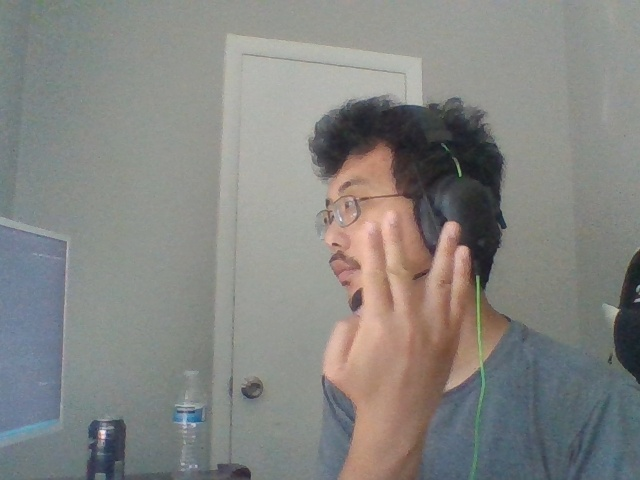LiveLong: (323, 208, 471, 418)
